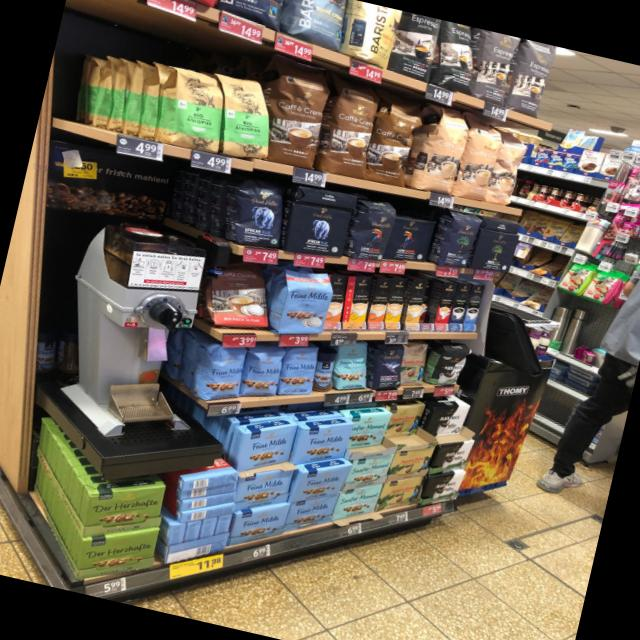AB Bohne: (234, 173, 286, 250)
AB Gemahlen: (282, 201, 352, 258)
Athiopien Gemahlen: (165, 64, 222, 155), (220, 72, 270, 159)
BM Bohne: (435, 210, 484, 268)
BM Gemahlen: (470, 228, 521, 273)
BW Bohne: (430, 342, 473, 387)
BW Gemahlen: (428, 439, 477, 475), (420, 471, 468, 504), (433, 405, 471, 438)
C Fino Bohne: (371, 344, 405, 390)
CC Mild: (415, 106, 474, 194), (451, 117, 508, 203), (485, 132, 533, 207)
CC Vollmundig: (211, 258, 269, 328)
Colombia BB Bohne: (399, 342, 430, 386)
Colombia BB Gemahlen: (385, 445, 436, 484), (374, 477, 424, 514)
FM 36 Pads: (274, 269, 337, 336)
FM Bohne: (200, 342, 250, 401), (240, 347, 288, 399), (279, 346, 322, 396)
FM Gemahlen: (235, 423, 297, 473), (291, 422, 356, 465), (228, 502, 291, 546), (234, 468, 295, 511), (288, 464, 354, 503), (285, 494, 339, 532)
Herzhatfe Mundig: (82, 484, 167, 540), (74, 528, 160, 581)
LG Bohne: (349, 200, 399, 261)
LG Gemahlen: (383, 215, 438, 263)
SM Bohne: (335, 343, 370, 391)
SM Gemahlen: (340, 453, 394, 493), (331, 483, 384, 521)
Simo CCMild: (341, 275, 372, 329)
Simo CCMild bigpack: (383, 278, 408, 329)
Simo CCVollmundig bigpack: (267, 57, 334, 172), (317, 75, 384, 179), (364, 94, 428, 189), (366, 278, 392, 329)
Simo Decaff: (403, 280, 427, 330)
Simo Es Brazil: (433, 281, 458, 330)
Simo Es Kraft: (449, 283, 471, 330)
Simo Es Vanilla: (462, 283, 485, 331)
